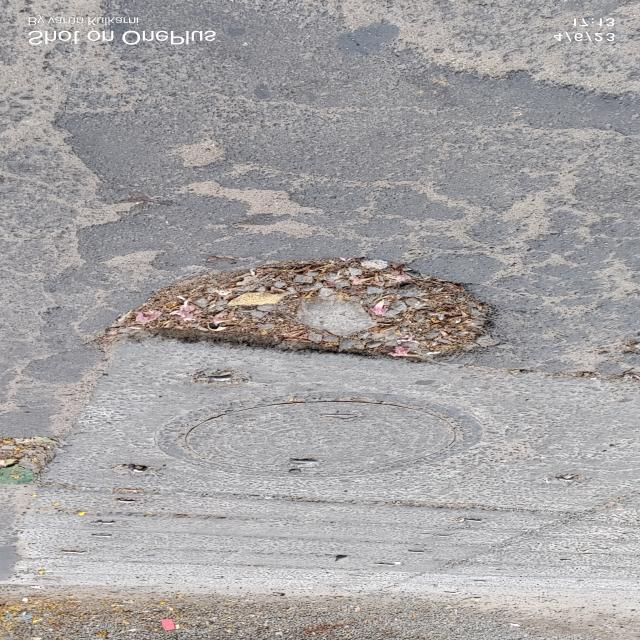potholes: (117, 252, 503, 368)
